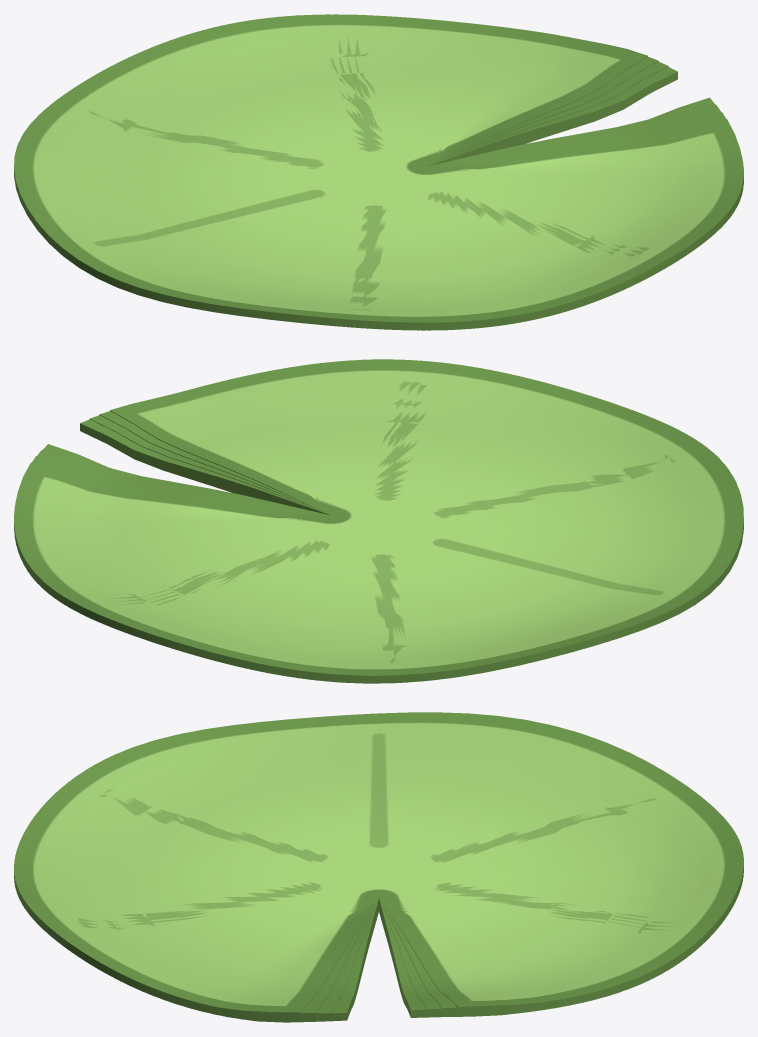
Rendered from lilypad.fbx.
The picture shows the model from 3 angles, top to bottom: view 1: azimuth 30°, elevation 25°; view 2: azimuth 150°, elevation 25°; view 3: azimuth 270°, elevation 25°; orthographic projection.
Parts seen in each view (by area): view 1: LilyPad_Notch25, LilyPad_Notch10, LilyPad_Notch20, LilyPad_Notch15; view 2: LilyPad_Notch25, LilyPad_Notch10, LilyPad_Notch20, LilyPad_Notch15; view 3: LilyPad_Notch25, LilyPad_Notch10, LilyPad_Notch20, LilyPad_Notch15.
Part boxes in pixels (x1,y1,x2,y2): LilyPad_Notch25: [14, 14, 743, 330]; LilyPad_Notch10: [14, 14, 743, 330]; LilyPad_Notch20: [14, 14, 743, 330]; LilyPad_Notch15: [14, 14, 743, 330]; LilyPad_Notch25: [14, 359, 743, 683]; LilyPad_Notch10: [14, 359, 743, 683]; LilyPad_Notch20: [14, 359, 743, 683]; LilyPad_Notch15: [14, 359, 743, 683]; LilyPad_Notch25: [14, 712, 743, 1020]; LilyPad_Notch10: [14, 712, 743, 1022]; LilyPad_Notch20: [14, 712, 743, 1020]; LilyPad_Notch15: [14, 712, 743, 1021].
Size of the model in its own units: 1.64 by 0.0804 by 1.64.
Materials: 1 (1 with a texture image).
